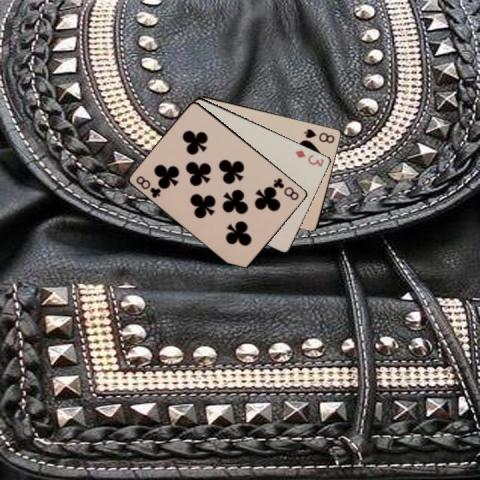3d: (293, 147, 325, 168)
8c: (270, 175, 300, 202), (133, 173, 163, 199)
8s: (301, 125, 336, 145)
